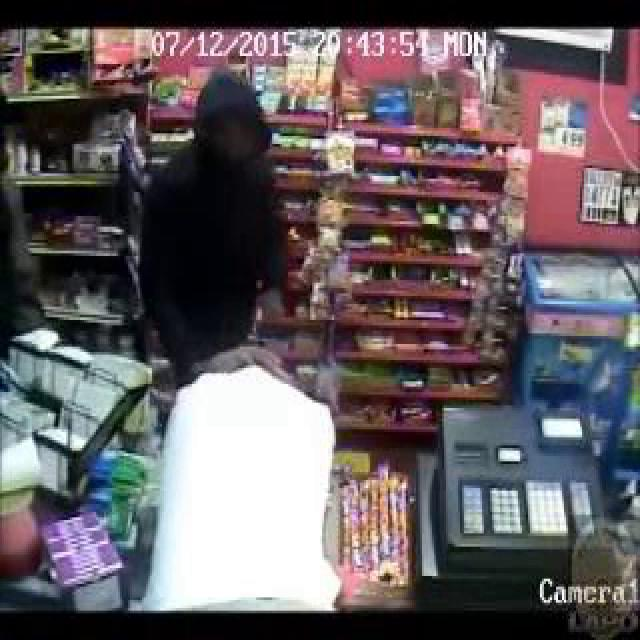robbery: (165, 31, 330, 411)
